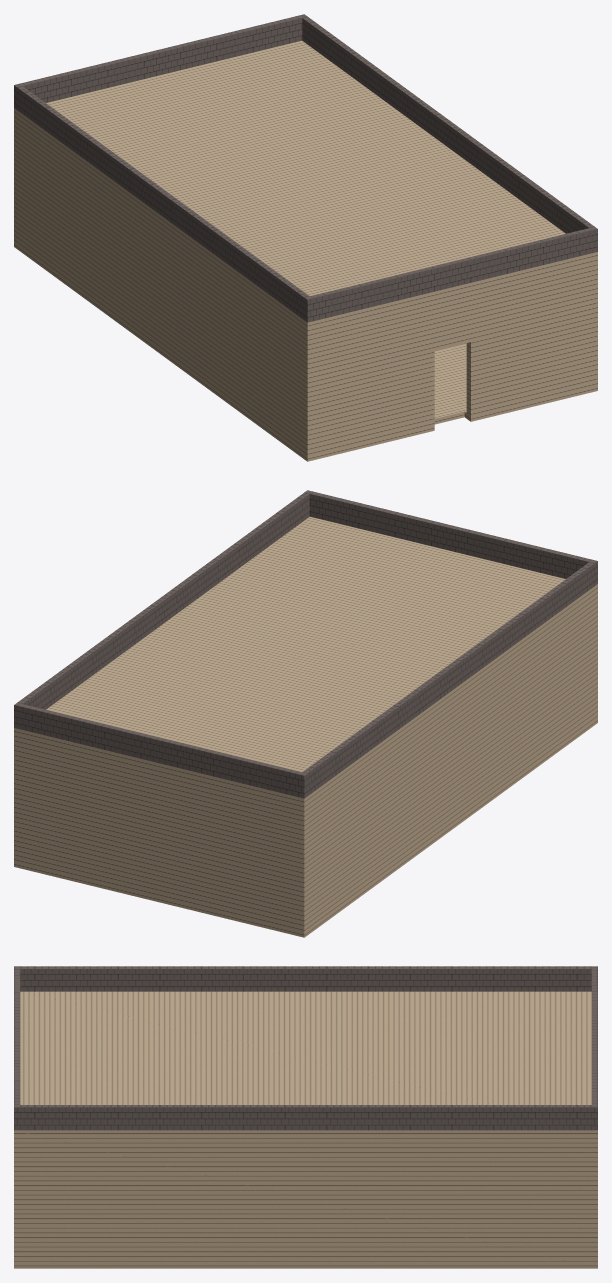
File: chandlery_marine_supply_store.glb
3 renders of one model, top to bottom at view 1: azimuth 30°, elevation 25°; view 2: azimuth 150°, elevation 25°; view 3: azimuth 270°, elevation 25°, orthographic.
Visible parts, largest first — view 1: chandlery_marine_supply_store-col; view 2: chandlery_marine_supply_store-col; view 3: chandlery_marine_supply_store-col.
Part boxes in pixels (x1,y1,x2,y2): chandlery_marine_supply_store-col: (14, 14, 597, 461); chandlery_marine_supply_store-col: (14, 490, 597, 937); chandlery_marine_supply_store-col: (14, 966, 597, 1268).
Size of the model in its own units: 8 by 4.26 by 14.
Materials: 2 (2 with a texture image).
